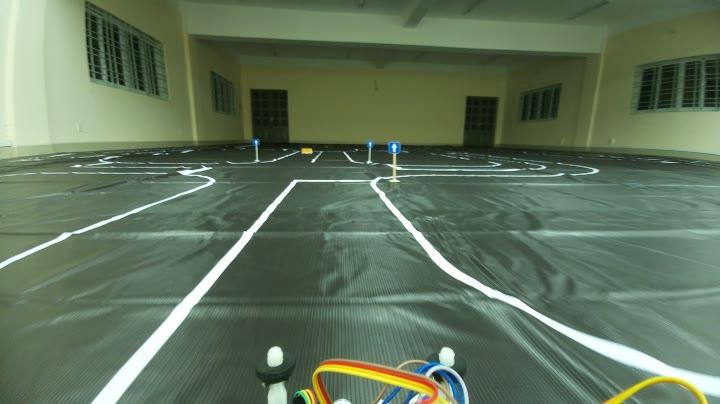onewayroad: (388, 137, 402, 154), (364, 136, 373, 150), (251, 136, 260, 146)
roadblock: (298, 146, 315, 156)
